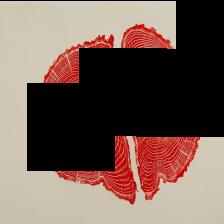red: (56, 47, 202, 180)
